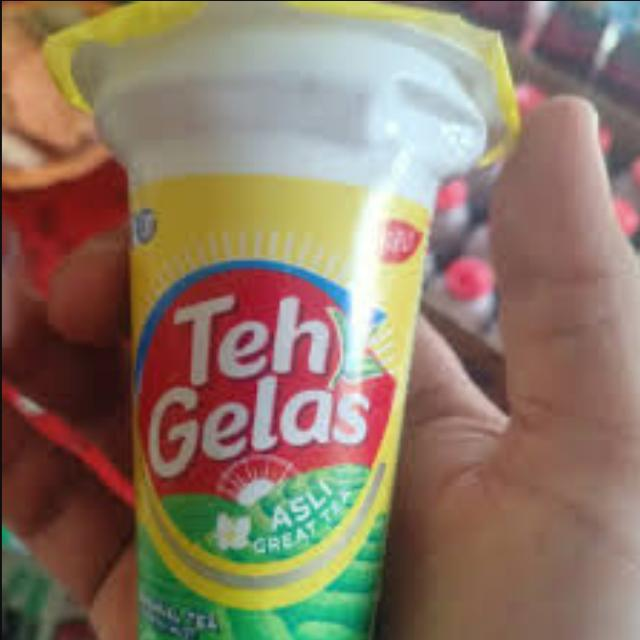GelasPlastik: (46, 0, 518, 639)
